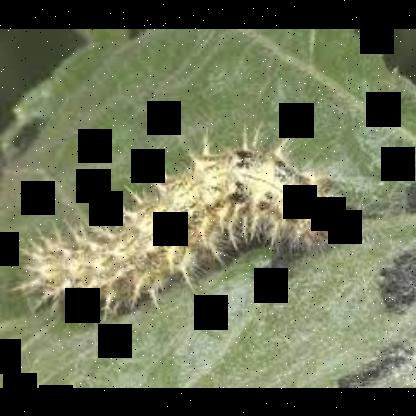oruga: (20, 123, 348, 325)
